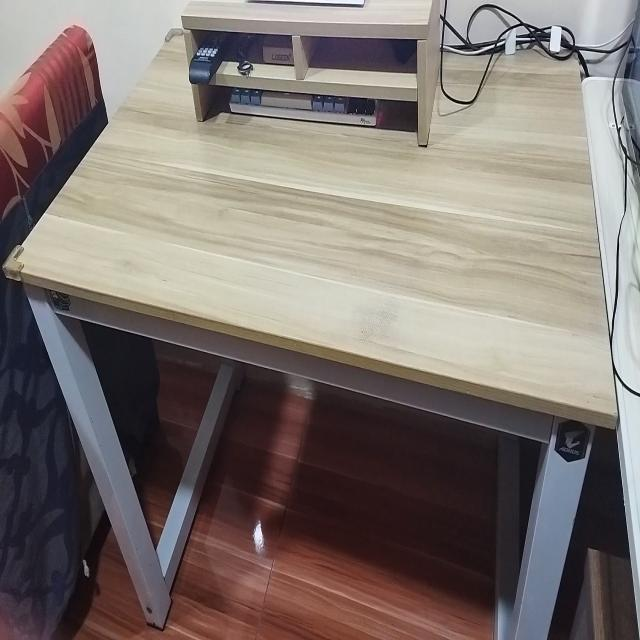table: (1, 24, 620, 640)
